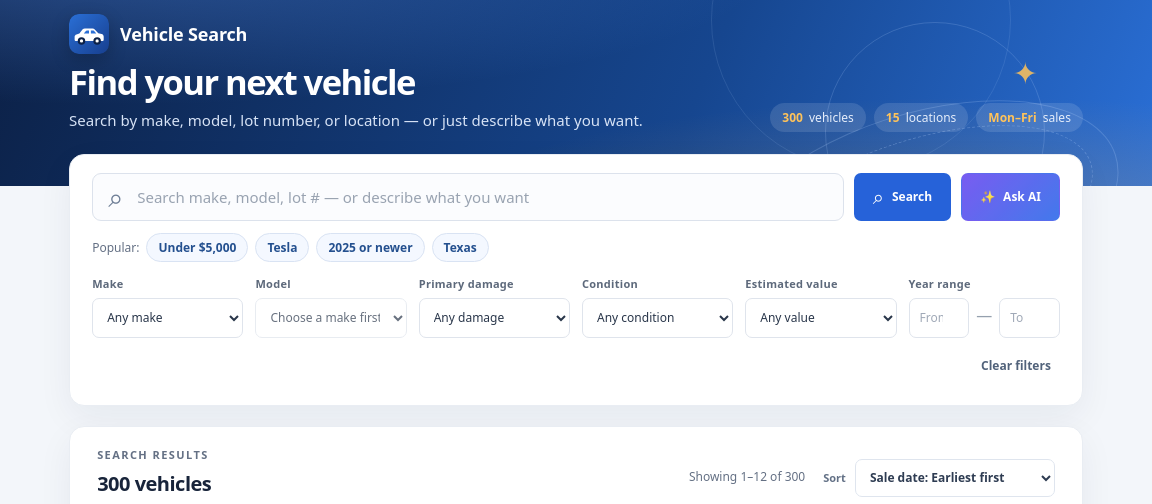
Scenario: vehicle search interactions › answers a 'Did you mean' question with one click on Yes and runs the search
The image size is (1152, 504).
Expected: the heading "300 vehicles" is shown, [97,470,211,497]
Type "toyota corolle" into the search field named "search by vehicle" at (482, 197), box [135,186,828,208]
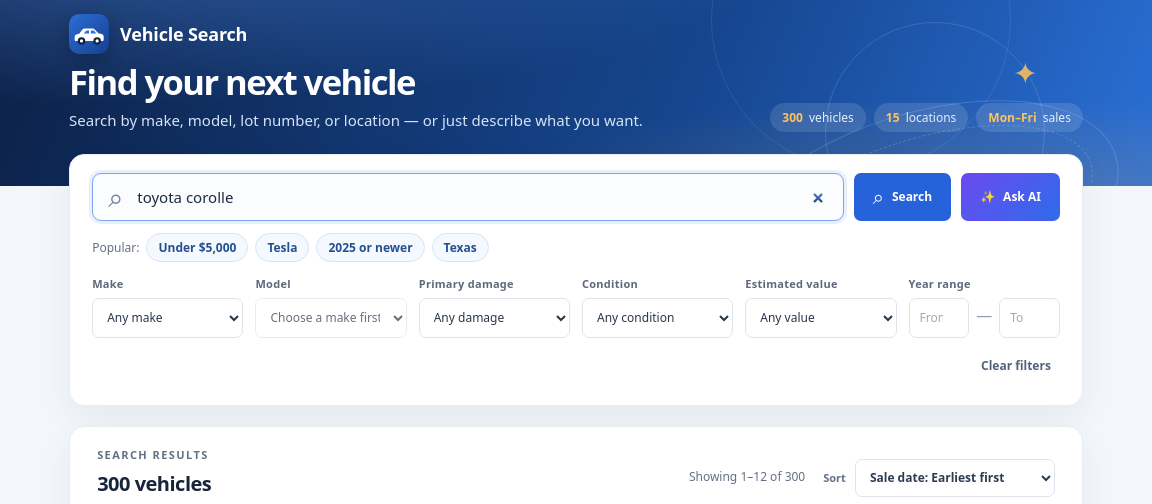
Click the button "✨ Ask AI" at (1010, 197), box [961,173,1060,221]
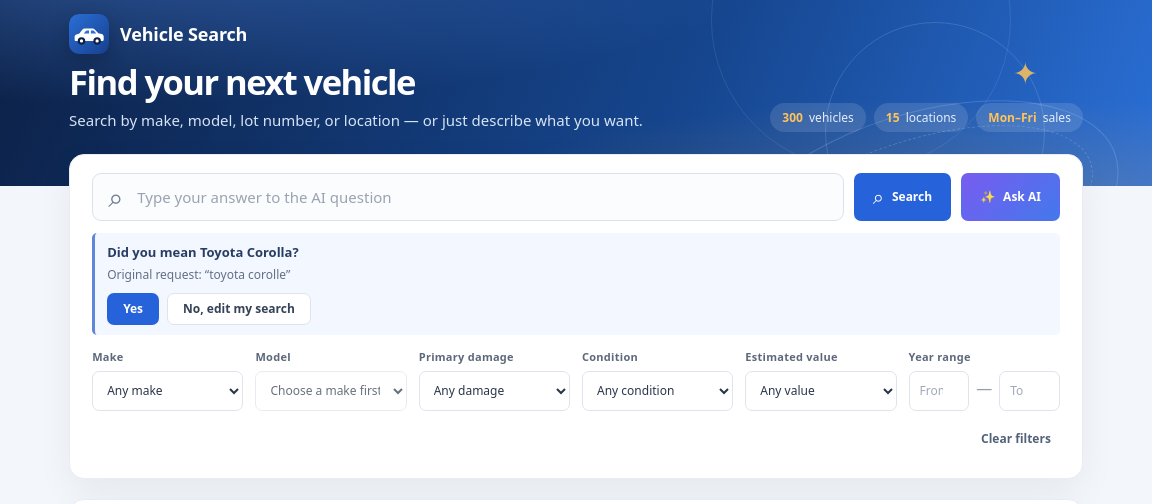
Expected: the text "Did you mean Toyota Corolla?" is shown, [107,243,299,261]
Click the button "Yes" at (133, 309), box [107,293,159,325]
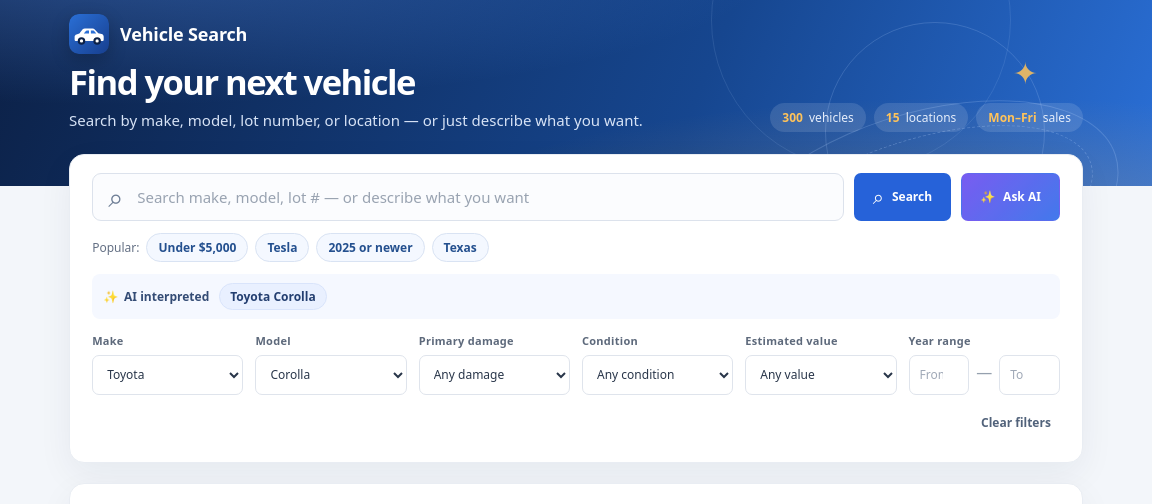
Expected: the dropdown labelled "Make" shows "Toyota", [92,355,243,395]
Expected: the dropdown labelled "Model" shows "Corolla", [255,355,407,395]
Expected: the text "Did you mean Toyota Corolla?" is gone
